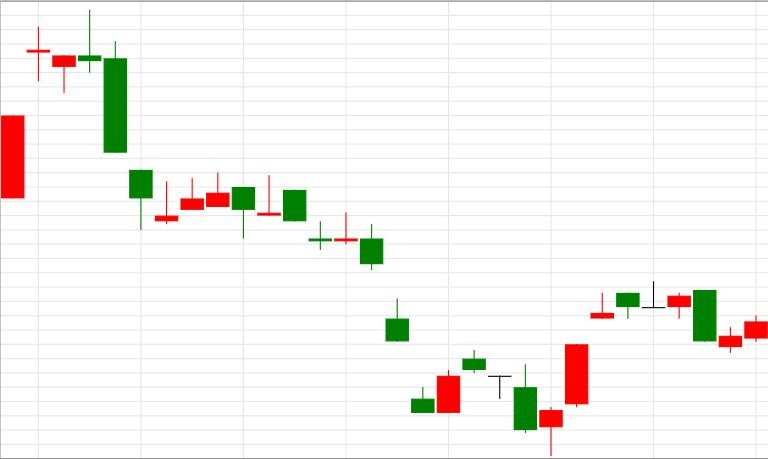bullish_engulfing_rise: (283, 190, 460, 414)
